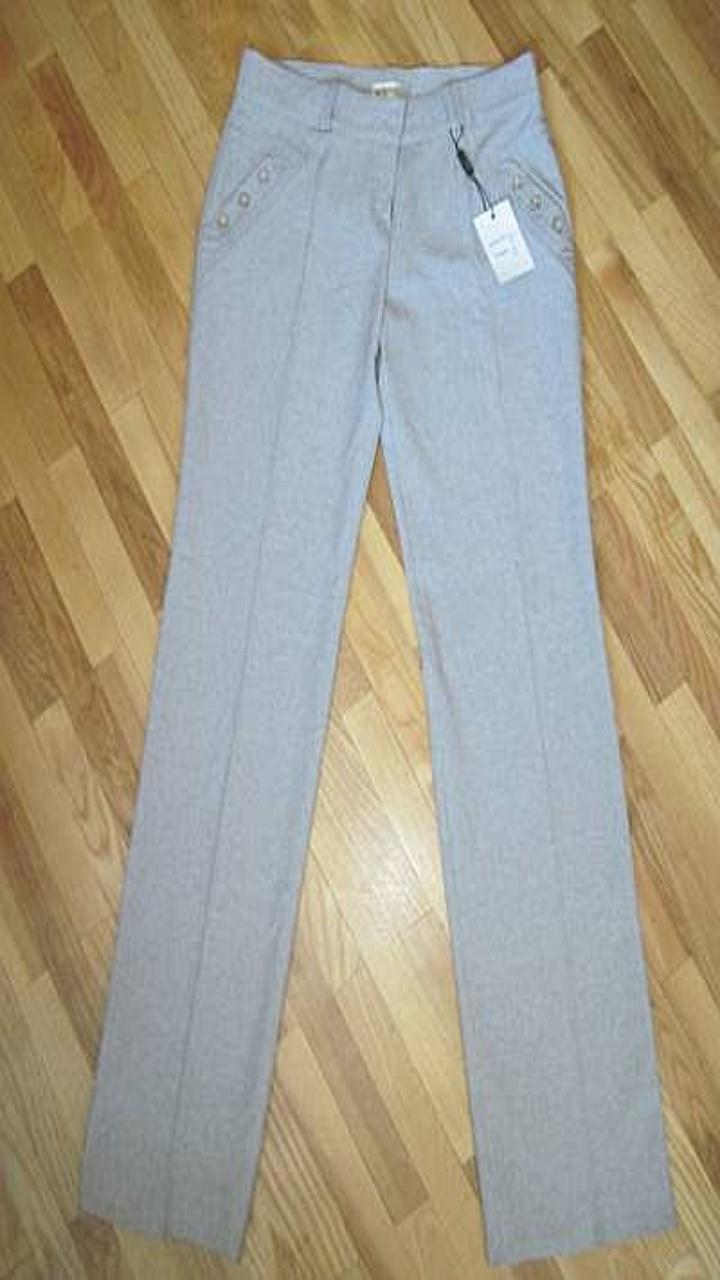Jeans: (80, 47, 675, 1263)
